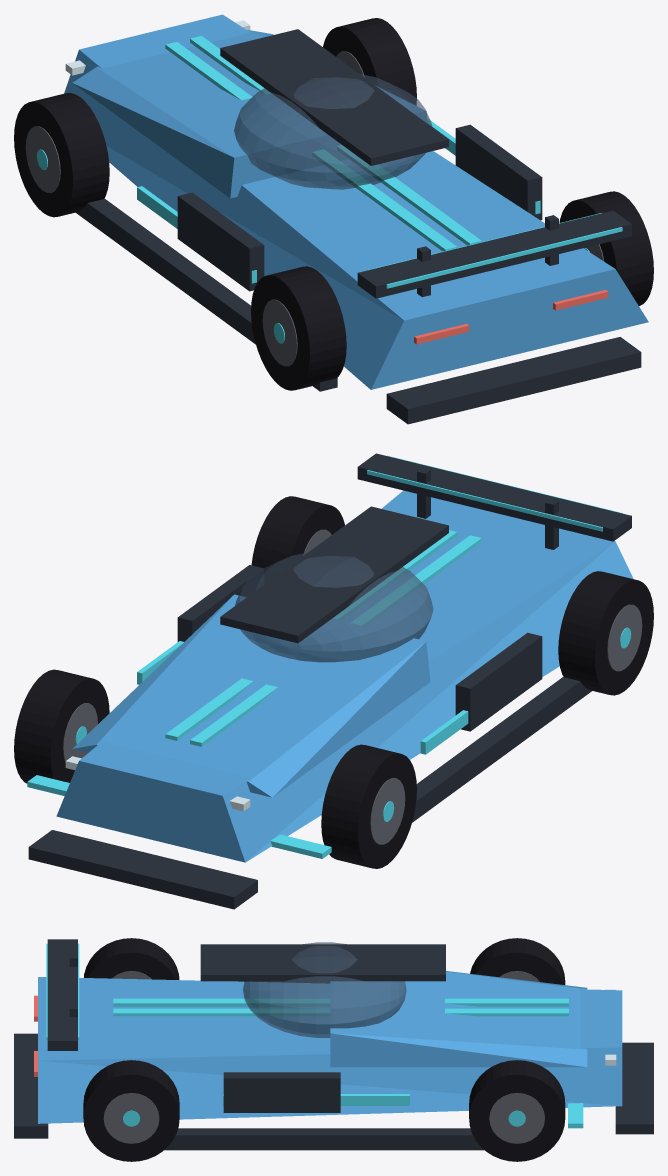
Rendered from nova_gt.glb.
The picture shows the model from 3 angles, top to bottom: view 1: azimuth 30°, elevation 25°; view 2: azimuth 150°, elevation 25°; view 3: azimuth 270°, elevation 25°; orthographic projection. The views are drawn at different scales.
Visible parts, largest first — view 1: body_chassis, hood_slope, carbon_roof_spine, dark_cockpit_canopy, rear_diffuser, left_rear_tire, left_front_tire, rear_spoiler_wing, left_side_skirt, left_side_intake, right_front_tire, right_rear_tire (+7 smaller); view 2: body_chassis, hood_slope, carbon_roof_spine, dark_cockpit_canopy, left_front_tire, left_rear_tire, front_splitter, rear_spoiler_wing, right_front_tire, left_side_skirt, left_side_intake, right_rear_tire (+9 smaller); view 3: body_chassis, hood_slope, carbon_roof_spine, dark_cockpit_canopy, right_side_skirt, right_front_tire, right_rear_tire, right_side_intake, rear_spoiler_wing, front_splitter, center_stripe_left, left_front_tire (+8 smaller).
Boxes of the visible parts, x1=… form: body_chassis: x1=64, y1=14, x2=648, y2=389; hood_slope: x1=72, y1=30, x2=427, y2=198; carbon_roof_spine: x1=220, y1=29, x2=448, y2=165; dark_cockpit_canopy: x1=234, y1=74, x2=432, y2=189; rear_diffuser: x1=386, y1=337, x2=641, y2=424; left_rear_tire: x1=251, y1=266, x2=346, y2=390; left_front_tire: x1=14, y1=93, x2=109, y2=217; rear_spoiler_wing: x1=357, y1=210, x2=631, y2=298; left_side_skirt: x1=76, y1=198, x2=337, y2=391; left_side_intake: x1=177, y1=192, x2=264, y2=291; right_front_tire: x1=323, y1=18, x2=416, y2=105; right_rear_tire: x1=559, y1=191, x2=653, y2=306; body_chassis: x1=56, y1=490, x2=633, y2=862; hood_slope: x1=72, y1=594, x2=430, y2=797; carbon_roof_spine: x1=220, y1=506, x2=448, y2=643; dark_cockpit_canopy: x1=235, y1=552, x2=433, y2=662; left_front_tire: x1=321, y1=744, x2=416, y2=868; left_rear_tire: x1=558, y1=571, x2=653, y2=695; front_splitter: x1=28, y1=830, x2=257, y2=909; rear_spoiler_wing: x1=357, y1=453, x2=631, y2=541; right_front_tire: x1=14, y1=669, x2=109, y2=783; left_side_skirt: x1=412, y1=677, x2=591, y2=822; left_side_intake: x1=455, y1=632, x2=542, y2=731; right_rear_tire: x1=251, y1=496, x2=344, y2=583; body_chassis: x1=38, y1=977, x2=622, y2=1123; hood_slope: x1=330, y1=971, x2=587, y2=1067; carbon_roof_spine: x1=200, y1=944, x2=445, y2=981; dark_cockpit_canopy: x1=243, y1=942, x2=406, y2=1037; right_side_skirt: x1=164, y1=1128, x2=484, y2=1150; right_front_tire: x1=469, y1=1060, x2=565, y2=1161; right_rear_tire: x1=83, y1=1060, x2=179, y2=1161; right_side_intake: x1=223, y1=1072, x2=340, y2=1112; rear_spoiler_wing: x1=47, y1=939, x2=77, y2=1050; front_splitter: x1=615, y1=1042, x2=653, y2=1134; center_stripe_left: x1=113, y1=998, x2=568, y2=1006; left_front_tire: x1=470, y1=938, x2=565, y2=984.
Size of the model in its own units: 2.37 by 1.1 by 4.65.
